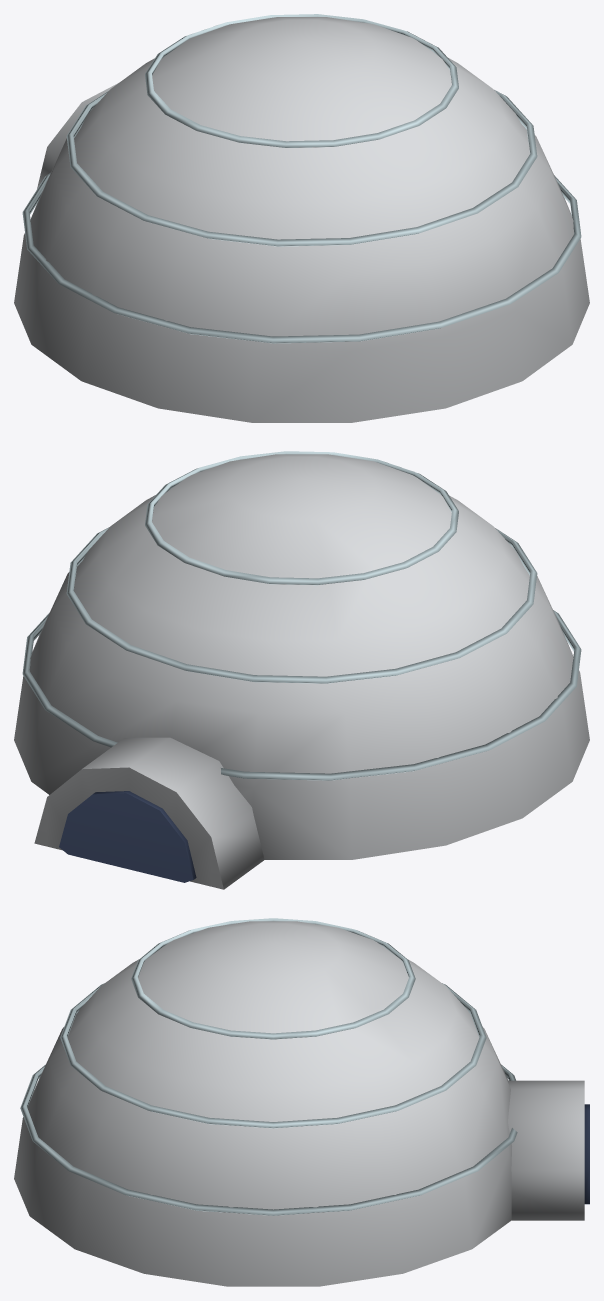
File: Winter_Igloo1.fbx
The picture shows the model from 3 angles, top to bottom: view 1: azimuth 30°, elevation 25°; view 2: azimuth 150°, elevation 25°; view 3: azimuth 270°, elevation 25°; orthographic projection. The views are drawn at different scales.
Parts seen in each view (by area): view 1: Winter_Igloo1; view 2: Winter_Igloo1; view 3: Winter_Igloo1.
Part boxes in pixels (x1=…): Winter_Igloo1: x1=14, y1=14, x2=589, y2=422; Winter_Igloo1: x1=14, y1=451, x2=589, y2=889; Winter_Igloo1: x1=14, y1=918, x2=589, y2=1286.
Size of the model in its own units: 3.15 by 1.6 by 3.55.
